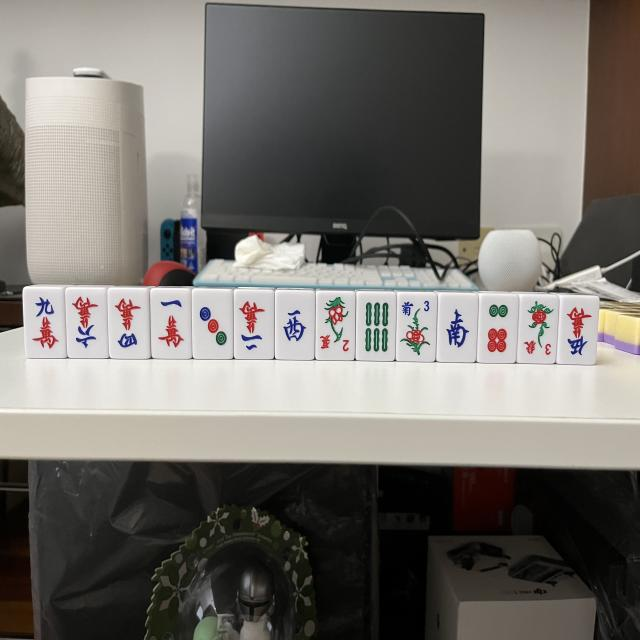f3: (396, 296, 438, 362)
ff2: (316, 291, 358, 359)
ff3: (517, 295, 558, 363)
m1: (150, 290, 192, 359)
m2: (233, 291, 275, 359)
m4: (106, 289, 150, 360)
m5: (557, 295, 600, 364)
m6: (67, 288, 110, 358)
m9: (23, 287, 68, 359)
s6: (358, 293, 397, 360)
south: (438, 294, 479, 362)
t3: (192, 290, 235, 358)
t6: (478, 296, 518, 364)
west: (274, 293, 314, 360)
